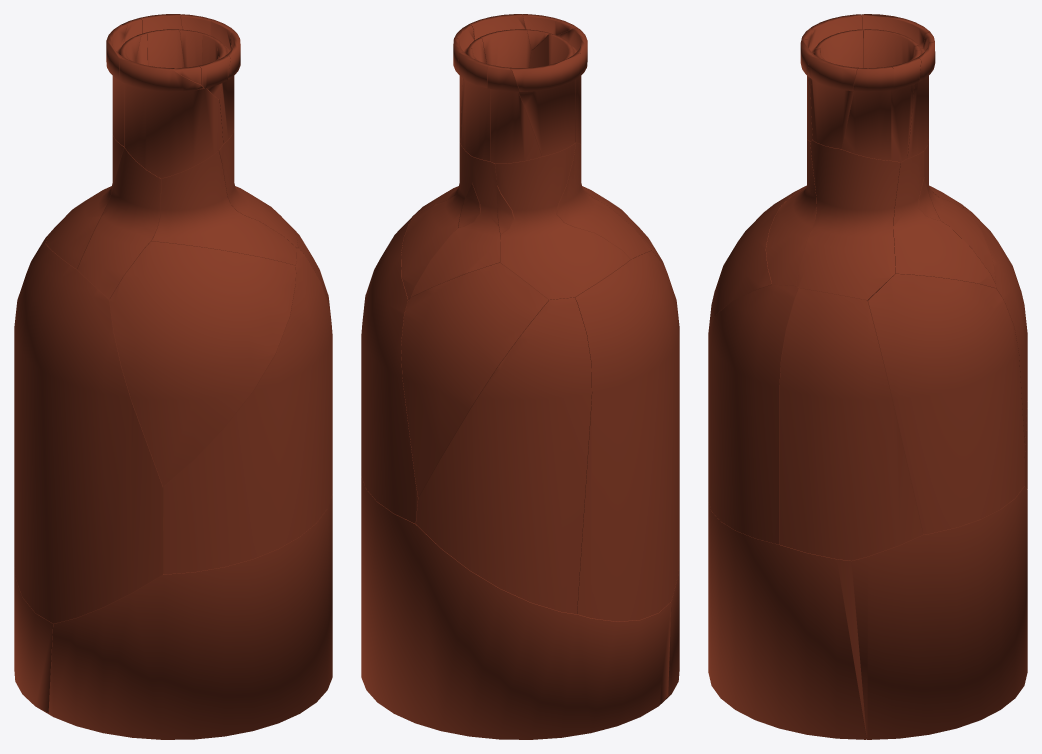
Rendered from 25_DestroyBottle.fbx.
The picture shows the model from 3 angles, left to right: view 1: azimuth 30°, elevation 25°; view 2: azimuth 150°, elevation 25°; view 3: azimuth 270°, elevation 25°; orthographic projection.
Parts seen in each view (by area): view 1: Bottle_cell.015, Bottle_cell.016, Bottle_cell.017, Bottle_cell, Bottle_cell.012, Bottle_cell.024, Bottle_cell.008, Bottle_cell.010, Bottle_cell.003, Bottle_cell.002, Bottle_cell.022, Bottle_cell.005 (+5 smaller); view 2: Bottle_cell.010, Bottle_cell.011, Bottle_cell.016, Bottle_cell.014, Bottle_cell.007, Bottle_cell.003, Bottle_cell.018, Bottle_cell.005, Bottle_cell.008, Bottle_cell.013, Bottle_cell.021, Bottle_cell.022 (+7 smaller); view 3: Bottle_cell.010, Bottle_cell.007, Bottle_cell.006, Bottle_cell.015, Bottle_cell, Bottle_cell.002, Bottle_cell.013, Bottle_cell.001, Bottle_cell.024, Bottle_cell.017, Bottle_cell.004, Bottle_cell.005 (+5 smaller).
Boxes of the visible parts, bbox=[...] form: Bottle_cell.015: bbox=[48, 494, 332, 739]; Bottle_cell.016: bbox=[14, 244, 163, 623]; Bottle_cell.017: bbox=[109, 241, 295, 486]; Bottle_cell: bbox=[163, 248, 332, 574]; Bottle_cell.012: bbox=[119, 57, 223, 178]; Bottle_cell.024: bbox=[151, 151, 296, 265]; Bottle_cell.008: bbox=[77, 147, 161, 299]; Bottle_cell.010: bbox=[14, 560, 53, 713]; Bottle_cell.003: bbox=[45, 134, 124, 269]; Bottle_cell.002: bbox=[218, 129, 297, 247]; Bottle_cell.022: bbox=[140, 14, 184, 67]; Bottle_cell.005: bbox=[106, 25, 140, 146]; Bottle_cell.010: bbox=[361, 477, 671, 739]; Bottle_cell.011: bbox=[416, 297, 591, 614]; Bottle_cell.016: bbox=[574, 251, 679, 621]; Bottle_cell.014: bbox=[401, 263, 548, 497]; Bottle_cell.007: bbox=[361, 216, 418, 523]; Bottle_cell.003: bbox=[495, 142, 630, 299]; Bottle_cell.018: bbox=[411, 156, 500, 297]; Bottle_cell.005: bbox=[509, 53, 581, 156]; Bottle_cell.008: bbox=[496, 143, 650, 259]; Bottle_cell.013: bbox=[401, 142, 471, 299]; Bottle_cell.021: bbox=[487, 65, 541, 163]; Bottle_cell.022: bbox=[458, 52, 490, 161]; Bottle_cell.010: bbox=[851, 486, 1027, 739]; Bottle_cell.007: bbox=[867, 274, 1024, 534]; Bottle_cell.006: bbox=[779, 288, 923, 560]; Bottle_cell.015: bbox=[708, 501, 866, 739]; Bottle_cell: bbox=[708, 285, 799, 544]; Bottle_cell.002: bbox=[796, 140, 900, 300]; Bottle_cell.013: bbox=[893, 151, 995, 288]; Bottle_cell.001: bbox=[842, 66, 893, 160]; Bottle_cell.024: bbox=[766, 139, 816, 286]; Bottle_cell.017: bbox=[708, 186, 806, 331]; Bottle_cell.004: bbox=[807, 54, 858, 148]; Bottle_cell.005: bbox=[861, 14, 929, 68].
Size of the model in its own units: 200 by 436 by 200.
